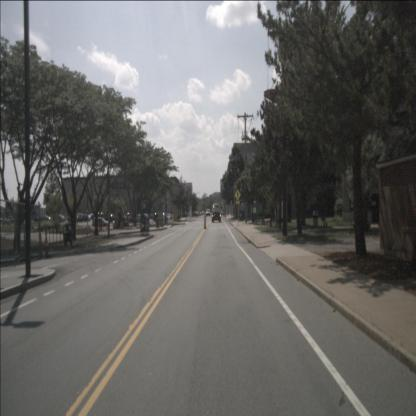movable_object-trafficcone: (43, 226, 51, 258)
vehicle-car: (92, 216, 109, 228), (2, 215, 16, 225), (153, 213, 166, 222), (53, 213, 65, 222), (130, 214, 141, 223), (158, 214, 170, 221), (41, 214, 51, 222), (161, 214, 172, 221), (164, 213, 175, 220), (74, 214, 83, 222), (83, 213, 91, 221), (34, 216, 43, 223), (206, 209, 211, 217)
vehicle-motorcycle: (62, 222, 74, 246)
vehicle-truck: (212, 203, 221, 222)
